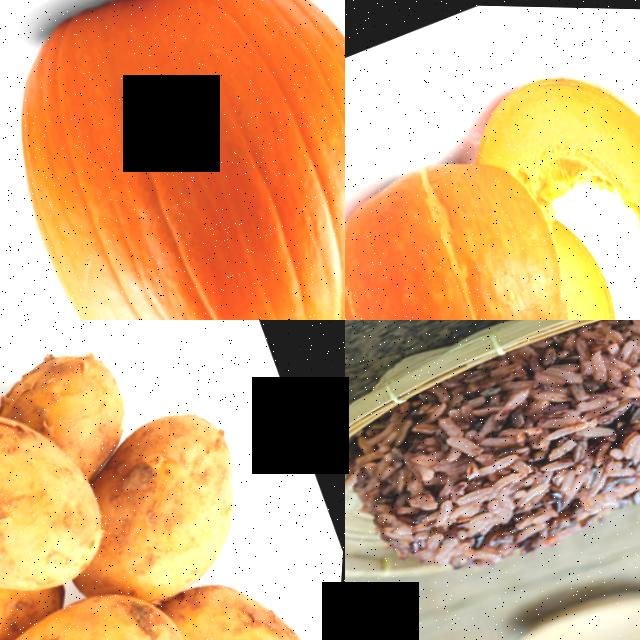potato: (58, 389, 280, 610), (0, 357, 132, 629), (8, 326, 152, 476), (0, 565, 211, 640), (166, 551, 337, 640)
pumpkin: (0, 0, 345, 320), (345, 121, 640, 320), (491, 20, 640, 286)
red rice: (345, 320, 640, 616)
